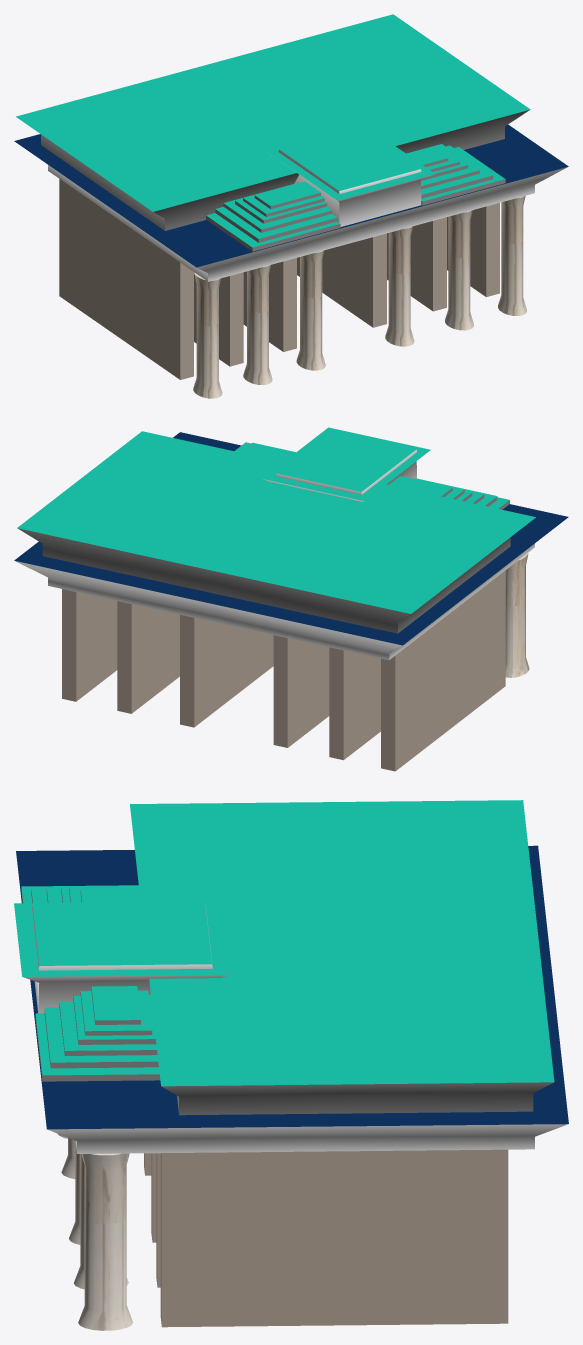
Rendered from Berlin.DAE.
3 views of the same model, one above another, from view 1: azimuth 30°, elevation 25°; view 2: azimuth 150°, elevation 25°; view 3: azimuth 270°, elevation 25° (orthographic). The views are drawn at different scales.
Parts seen in each view (by area): view 1: AboveRoof, BlockPillar__6, Roof, DisplayBlockTop, BlockPillar__1, DisplayBlockFoundation, BlockPillar__3, Column1, Column2, Column6, Column3, Column4 (+10 smaller); view 2: AboveRoof, Roof, BlockPillar__6, BlockPillar__1, BlockPillar__3, BlockPillar__2, BlockPillar__5, DisplayBlockTop, BlockPillar__4, Column1, DisplayBlockFoundation, Steps05; view 3: AboveRoof, BlockPillar__5, Roof, DisplayBlockTop, Column4, DisplayBlockFoundation, Steps05, Steps, Steps01, Steps04, Steps02, Steps03 (+2 smaller).
Boxes of the visible parts, bbox=[...] form: AboveRoof: bbox=[16, 14, 530, 230]; BlockPillar__6: bbox=[59, 179, 193, 379]; Roof: bbox=[14, 124, 568, 281]; DisplayBlockTop: bbox=[278, 127, 421, 193]; BlockPillar__1: bbox=[297, 233, 386, 327]; DisplayBlockFoundation: bbox=[264, 123, 434, 226]; BlockPillar__3: bbox=[387, 217, 446, 311]; Column1: bbox=[193, 272, 222, 398]; Column2: bbox=[385, 226, 414, 346]; Column6: bbox=[296, 250, 325, 370]; Column3: bbox=[445, 210, 473, 330]; Column4: bbox=[498, 196, 526, 315]; AboveRoof: bbox=[17, 431, 535, 633]; Roof: bbox=[14, 432, 568, 660]; BlockPillar__6: bbox=[381, 570, 505, 771]; BlockPillar__1: bbox=[180, 614, 273, 727]; BlockPillar__3: bbox=[117, 601, 179, 713]; BlockPillar__2: bbox=[273, 635, 329, 747]; BlockPillar__5: bbox=[62, 589, 117, 701]; DisplayBlockTop: bbox=[276, 431, 416, 494]; BlockPillar__4: bbox=[329, 647, 380, 760]; Column1: bbox=[505, 553, 529, 677]; DisplayBlockFoundation: bbox=[262, 427, 430, 501]; Steps05: bbox=[256, 447, 452, 496]; AboveRoof: bbox=[130, 800, 554, 1115]; BlockPillar__5: bbox=[160, 1149, 508, 1327]; Roof: bbox=[16, 845, 568, 1153]; DisplayBlockTop: bbox=[32, 903, 212, 970]; Column4: bbox=[78, 1153, 132, 1330]; DisplayBlockFoundation: bbox=[14, 901, 230, 1013]; Steps05: bbox=[80, 887, 140, 1024]; Steps: bbox=[21, 885, 160, 1081]; Steps01: bbox=[31, 887, 158, 1068]; Steps04: bbox=[69, 886, 152, 1035]; Steps02: bbox=[46, 887, 157, 1055]; Steps03: bbox=[61, 886, 156, 1044].
Bounding box in the file's own units: 17.79 × 14.58 × 7.94.
